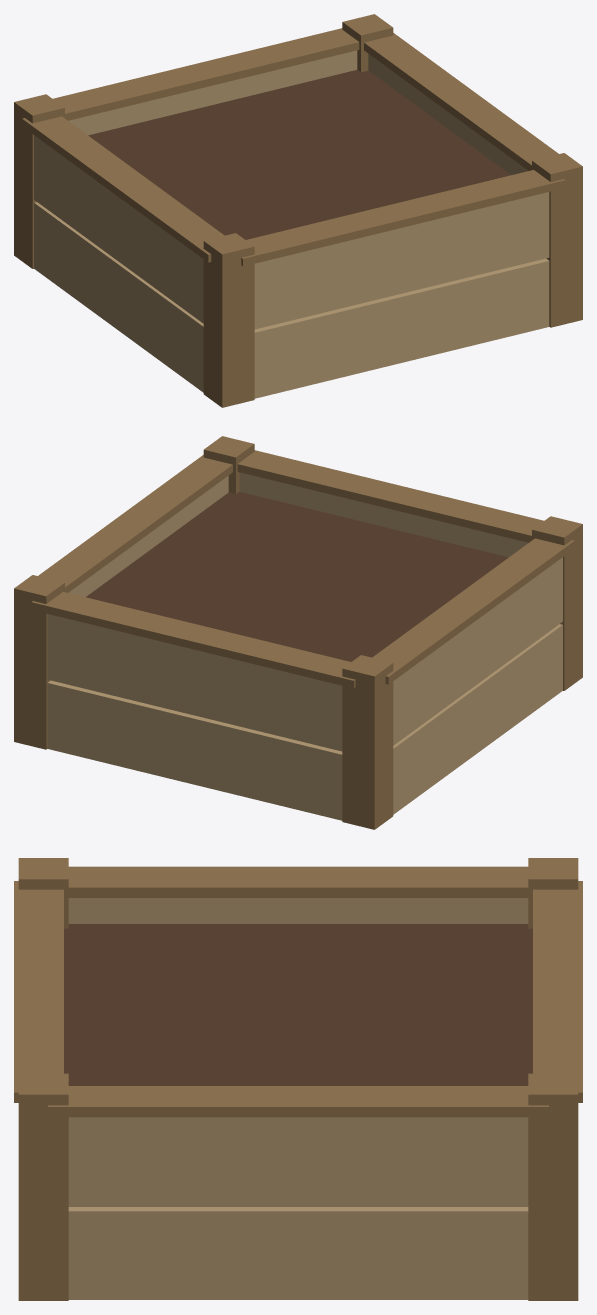
The model's file is RaisedBed_1x1.fbx.
3 renders of one model, top to bottom at view 1: azimuth 30°, elevation 25°; view 2: azimuth 150°, elevation 25°; view 3: azimuth 270°, elevation 25°, orthographic. The views are drawn at different scales.
Parts seen in each view (by area): view 1: RaisedBed_1x1; view 2: RaisedBed_1x1; view 3: RaisedBed_1x1.
Part boxes in pixels (box(x1,y1,x2,y2)): RaisedBed_1x1: box(14, 14, 582, 407); RaisedBed_1x1: box(14, 436, 582, 829); RaisedBed_1x1: box(14, 858, 582, 1300).
Bounding box in the file's own units: 1.25 × 0.5 × 1.25.
